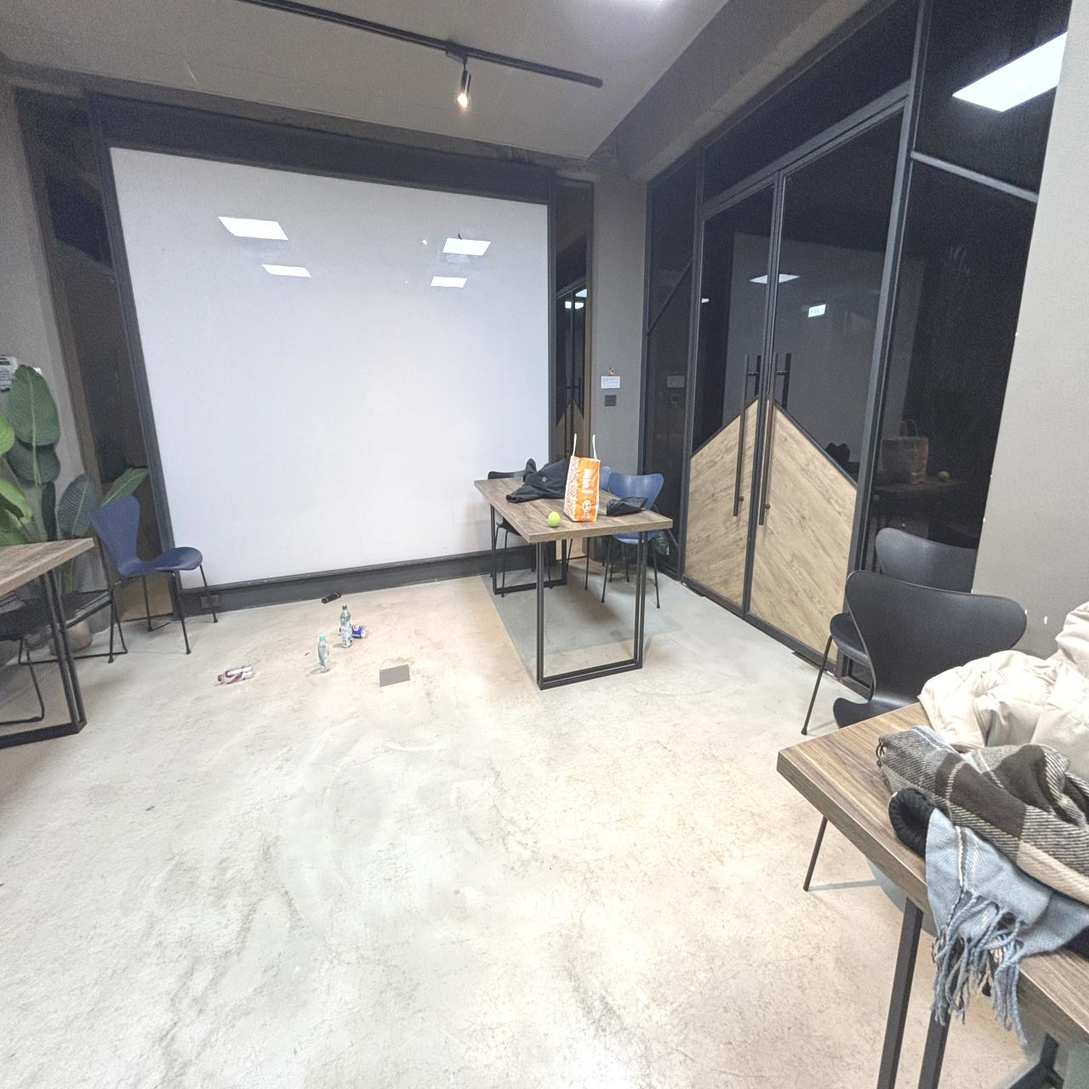plastic-bottle: (339, 604, 351, 647), (318, 634, 328, 670)
tennisball: (548, 511, 560, 527)
